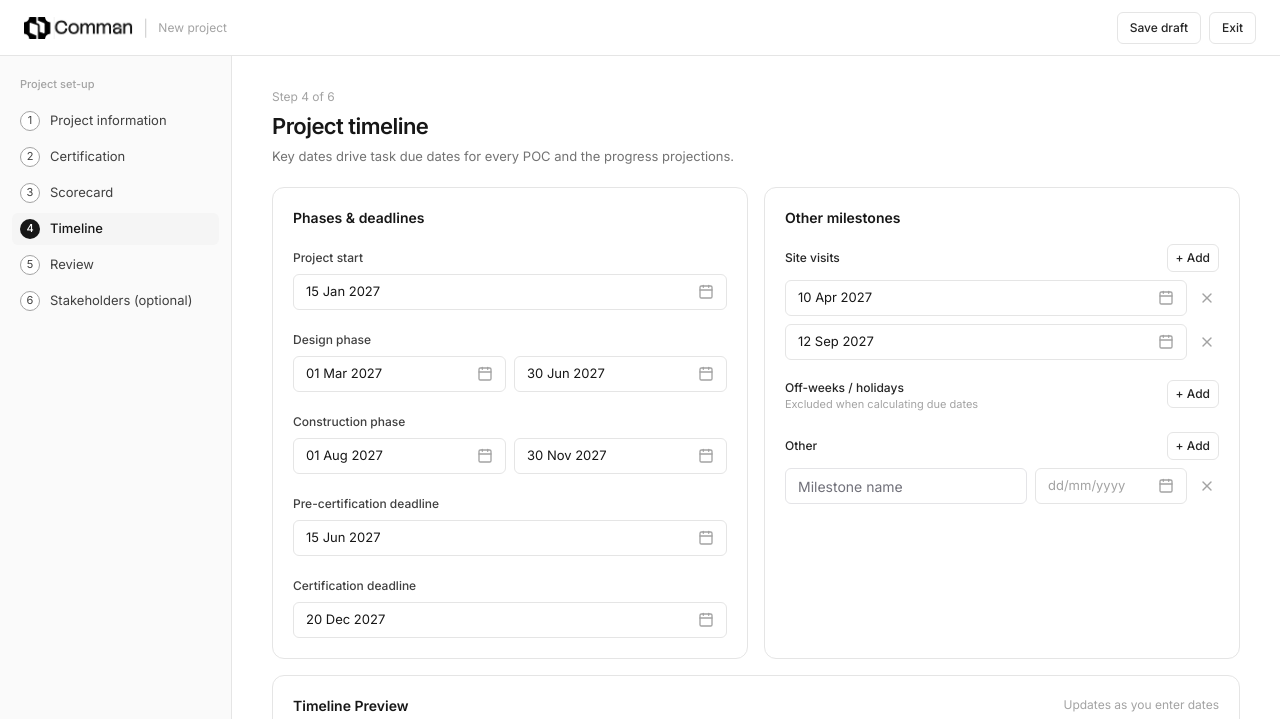
Test: NewProjectPage › shows inline errors when timeline dates are missing or out of order
Type "2027-02-01" into the date field with test id "designEnd-value" at (620, 374), box [514,356,727,392]
(page scrolled)
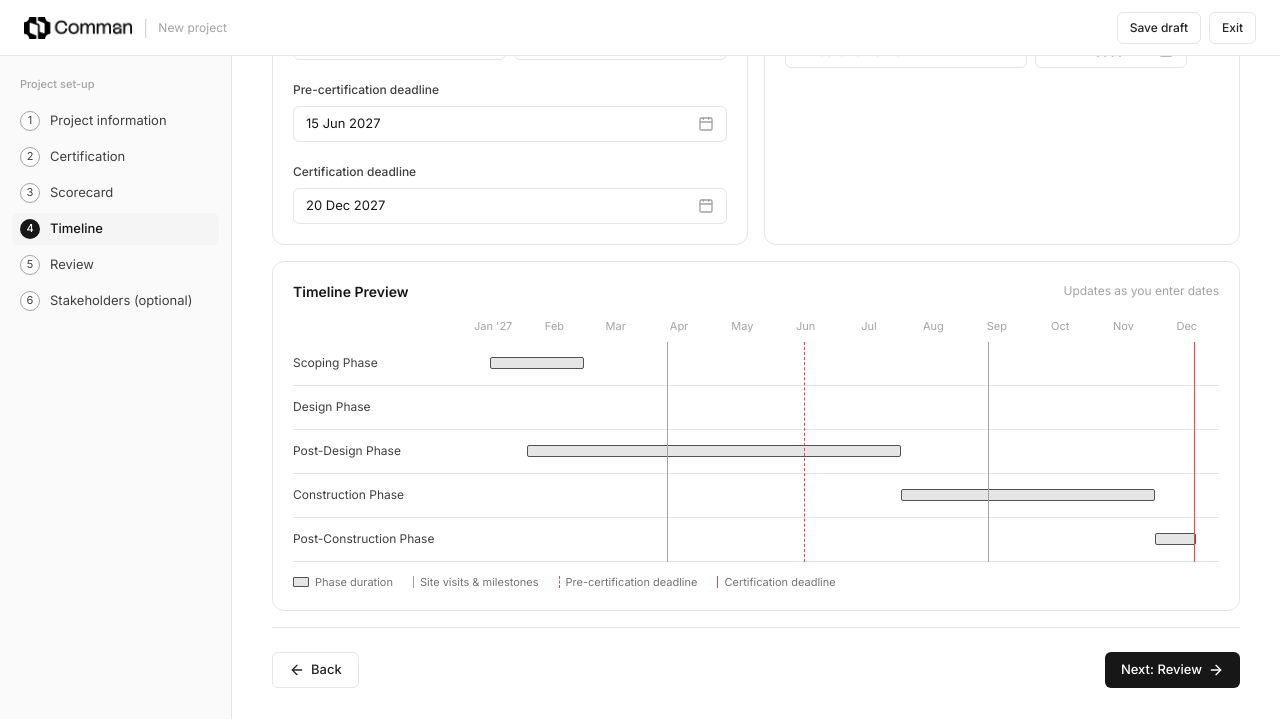
Click the button "Next: Review" at (1172, 670), box [1105,652,1240,688]
(page scrolled)
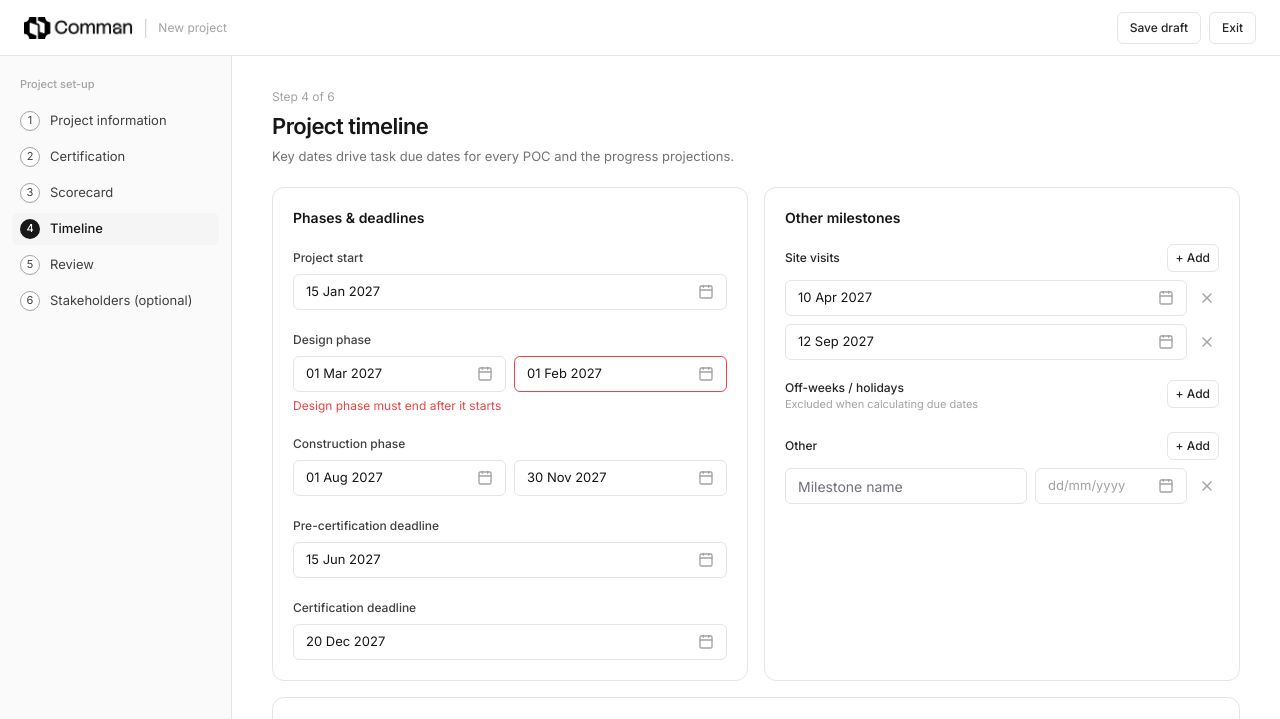
Check: the text "Design phase must end after it starts" is shown, box [293,398,501,412]
Check: the heading "Project timeline" is shown, box [272,113,428,139]
